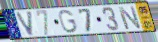3: (102, 6, 120, 33)
7: (77, 8, 94, 33), (35, 9, 50, 36)
G: (58, 9, 79, 34)
N: (117, 5, 143, 31)
V: (14, 10, 34, 37)
